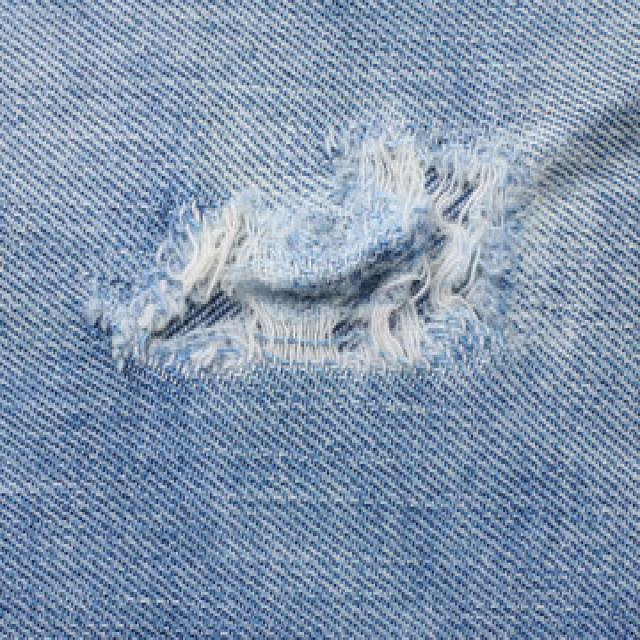Hole: (90, 121, 526, 373)
